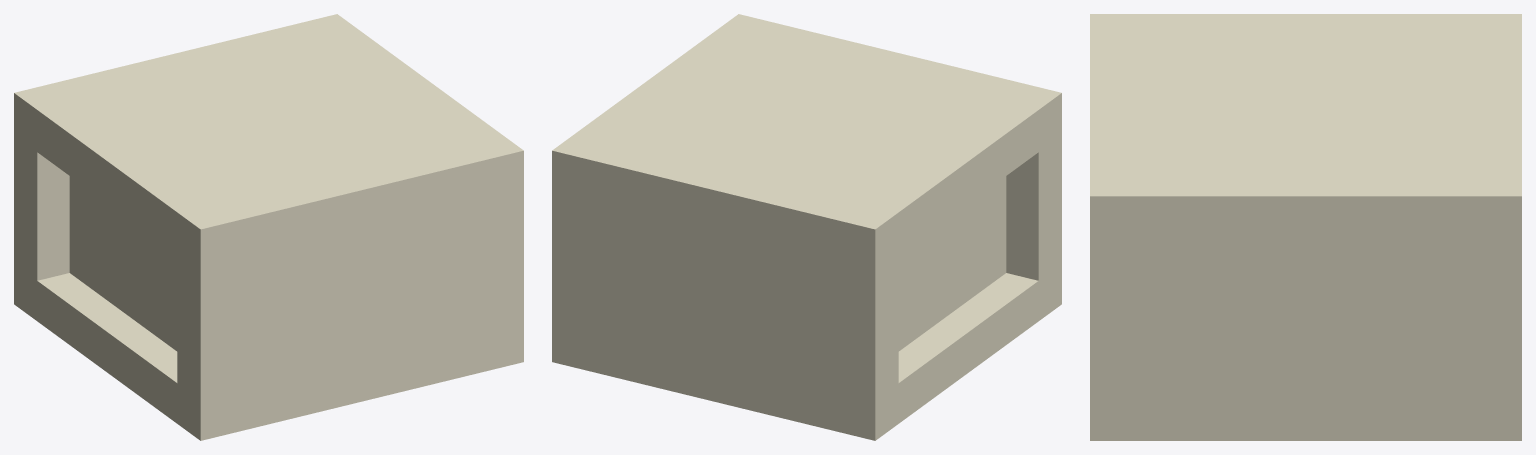
Rendered from modularbuildings_040.glb.
The picture shows the model from 3 angles, left to right: view 1: azimuth 30°, elevation 25°; view 2: azimuth 150°, elevation 25°; view 3: azimuth 270°, elevation 25°; orthographic projection. The views are drawn at different scales.
Parts seen in each view (by area): view 1: Mesh1 Group1 Model; view 2: Mesh1 Group1 Model; view 3: Mesh1 Group1 Model.
Part boxes in pixels (<box>): Mesh1 Group1 Model: <box>14,14,523,440</box>; Mesh1 Group1 Model: <box>552,14,1061,440</box>; Mesh1 Group1 Model: <box>1090,14,1521,440</box>.
Size of the model in its own units: 1 by 0.625 by 1.
